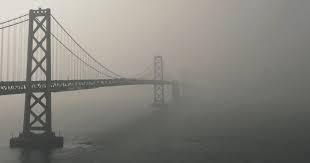smoke: (59, 0, 310, 163)
